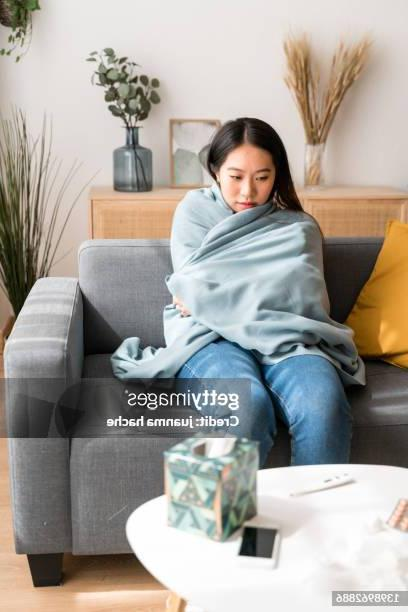blanket: (110, 180, 366, 389)
trousers: (174, 339, 354, 471)
